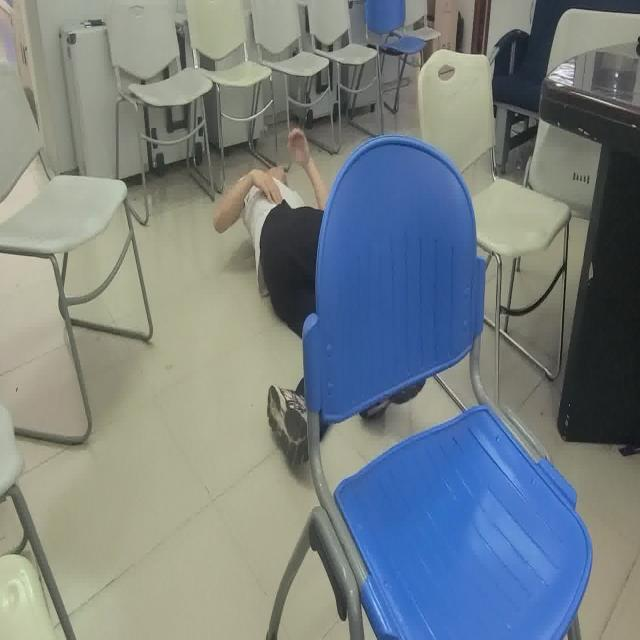fall: (211, 125, 427, 472)
